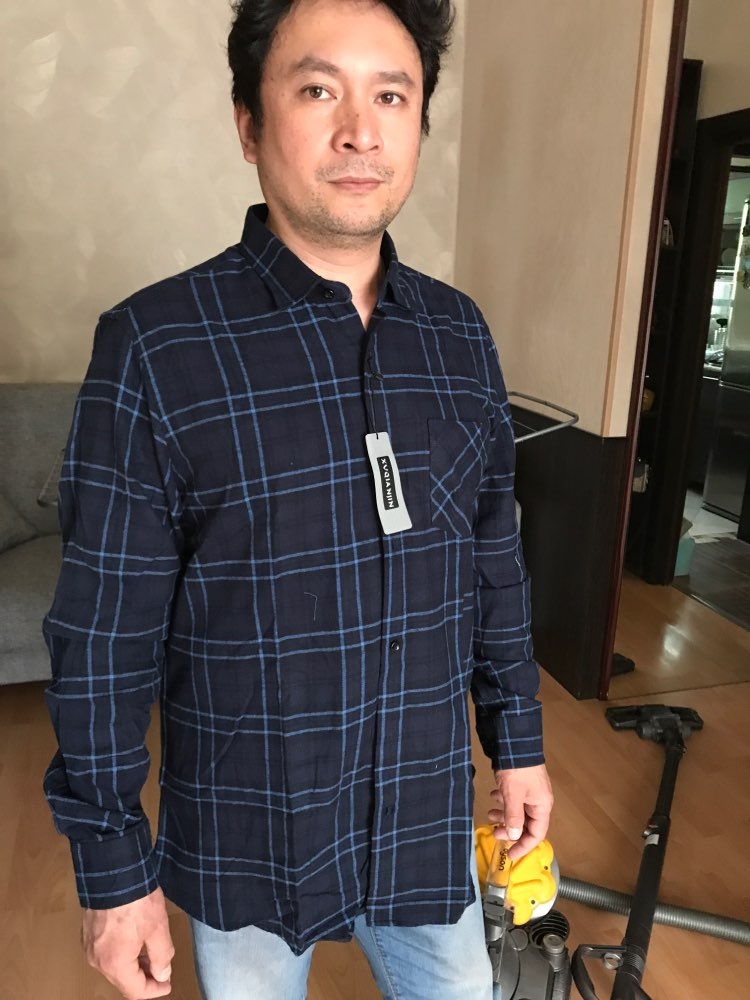shirts: (45, 206, 540, 946)
